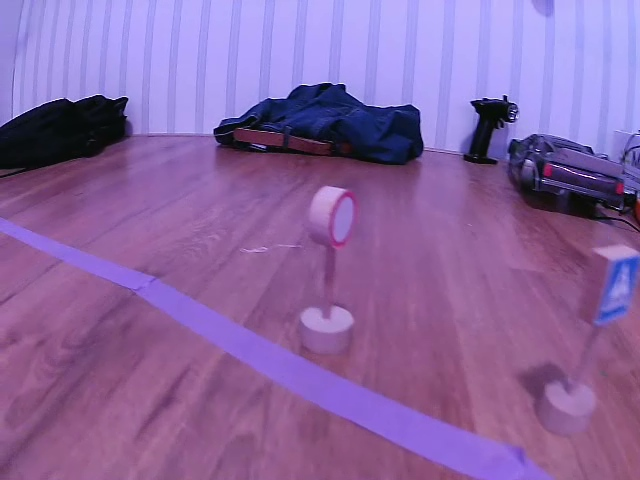wegdicht: (324, 191, 360, 250)
